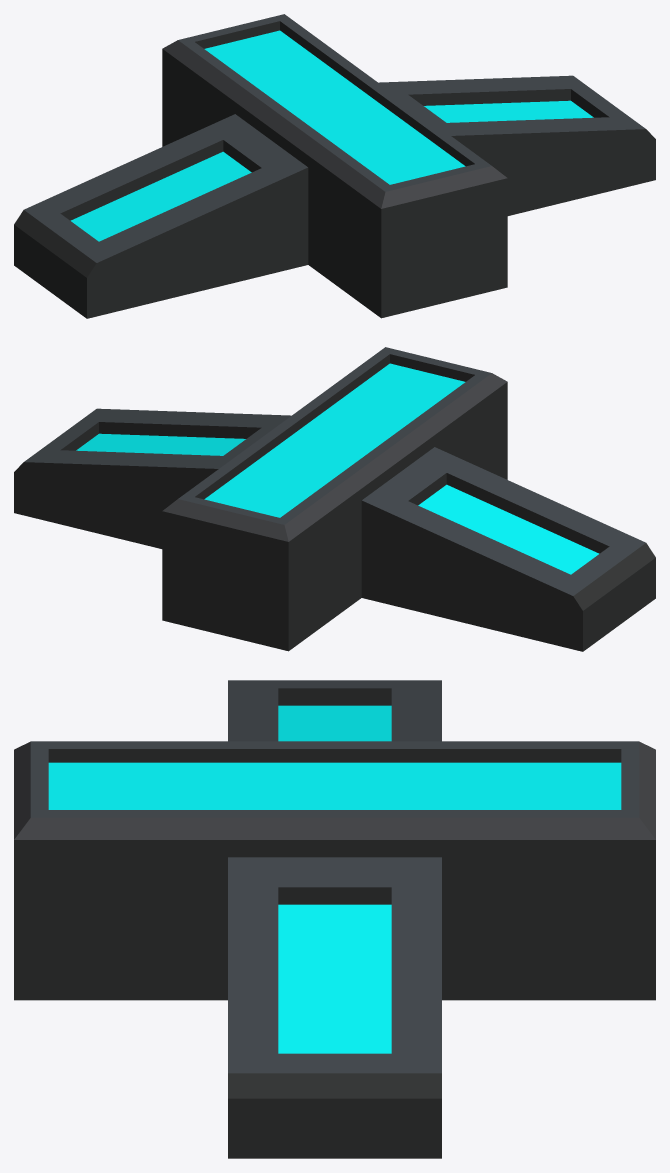
The model's file is LightCross_02.glb.
The picture shows the model from 3 angles, top to bottom: view 1: azimuth 30°, elevation 25°; view 2: azimuth 150°, elevation 25°; view 3: azimuth 270°, elevation 25°; orthographic projection. The views are drawn at different scales.
Visible parts, largest first — view 1: LightCross_02; view 2: LightCross_02; view 3: LightCross_02.
Part boxes in pixels (x1=…): LightCross_02: x1=14, y1=14, x2=655, y2=318; LightCross_02: x1=14, y1=347, x2=655, y2=651; LightCross_02: x1=14, y1=680, x2=655, y2=1158.
Size of what is drawn, in the model's own units: 3 by 0.6034 by 2.
Materials: 1 (1 with a texture image).
